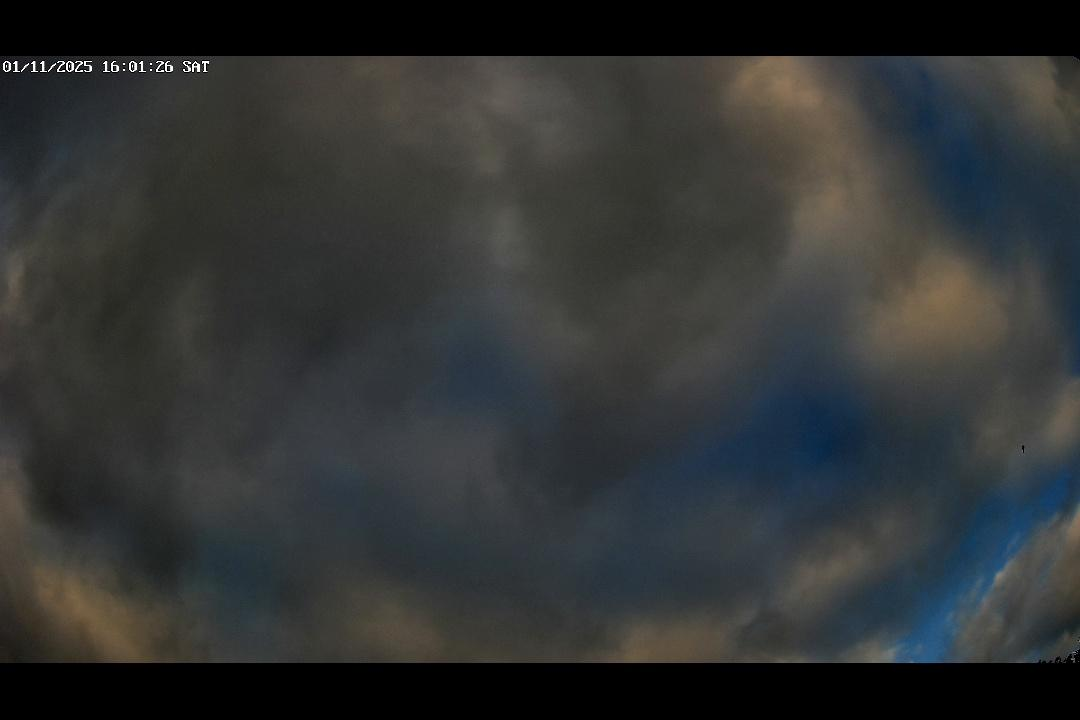Plane: (1018, 442, 1027, 458)
